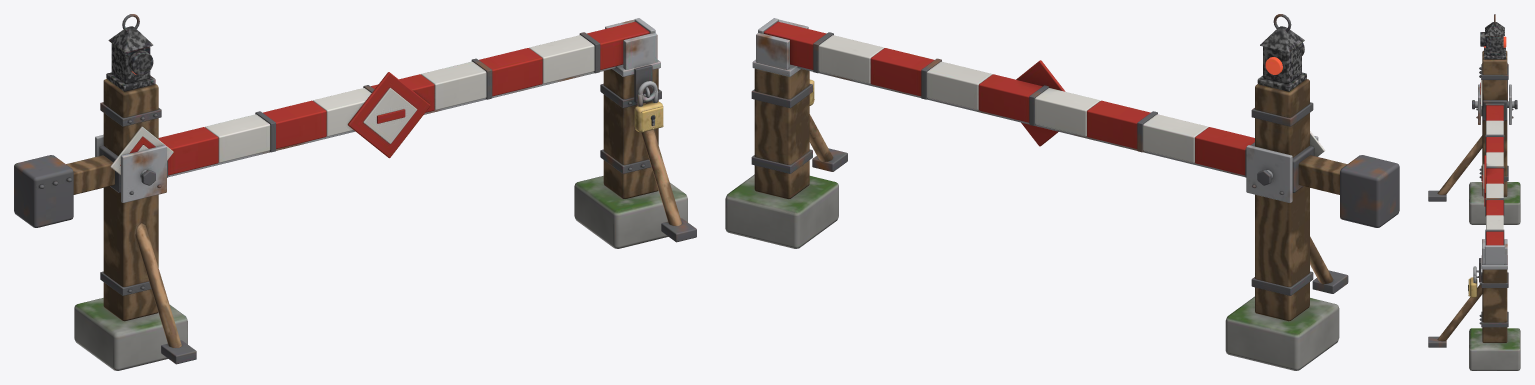
Rendered from track_gate.glb.
3 renders of one model, left to right at view 1: azimuth 30°, elevation 25°; view 2: azimuth 150°, elevation 25°; view 3: azimuth 270°, elevation 25°, orthographic. The views are drawn at different scales.
Parts seen in each view (by area): view 1: GateFrame, Boom, Padlock; view 2: GateFrame, Boom; view 3: GateFrame, Boom, Padlock.
Part boxes in pixels (left/top/right/bottom): GateFrame: left=74, top=14, right=696, bottom=370; Boom: left=14, top=18, right=655, bottom=227; Padlock: left=634, top=81, right=663, bottom=132; GateFrame: left=725, top=14, right=1348, bottom=370; Boom: left=758, top=18, right=1399, bottom=227; GateFrame: left=1428, top=14, right=1520, bottom=370; Boom: left=1479, top=63, right=1507, bottom=264; Padlock: left=1468, top=266, right=1477, bottom=297.
Bounding box in the file's own units: 6.06 × 3.01 × 1.25.
Materials: 10 (10 with a texture image).
